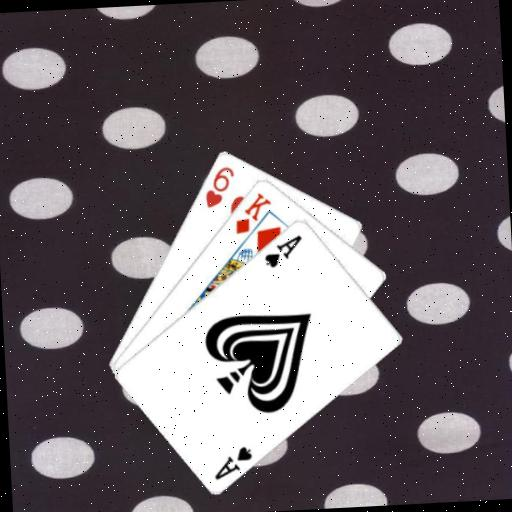6H: (200, 163, 237, 210)
AS: (210, 442, 256, 481), (260, 231, 305, 270)
KD: (230, 188, 275, 236)
